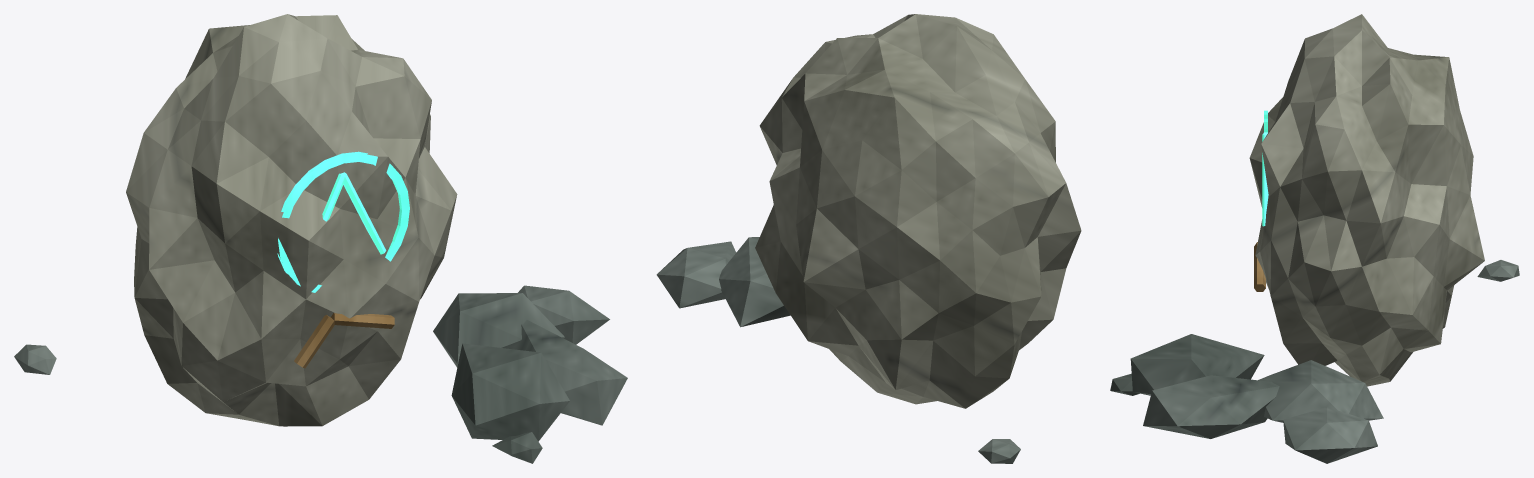
File: 0663_waystone_13.glb
The picture shows the model from 3 angles, left to right: view 1: azimuth 30°, elevation 25°; view 2: azimuth 150°, elevation 25°; view 3: azimuth 270°, elevation 25°; orthographic projection. The views are drawn at different scales.
Parts seen in each view (by area): view 1: stone_light, stone, glow, brass; view 2: stone_light, stone; view 3: stone_light, stone, glow.
Boxes of the visible parts, x1,y1,x2,y2 form: stone_light: (126,14,457,426); stone: (14,285,627,463); glow: (277,151,409,292); brass: (294,313,394,368); stone_light: (755,14,1081,408); stone: (656,237,1020,463); stone_light: (1249,14,1484,386); stone: (1110,260,1519,463); glow: (1262,110,1268,226).
Size of the model in its own units: 1.57 by 1.31 by 1.37.
4 materials, 4 textured.
